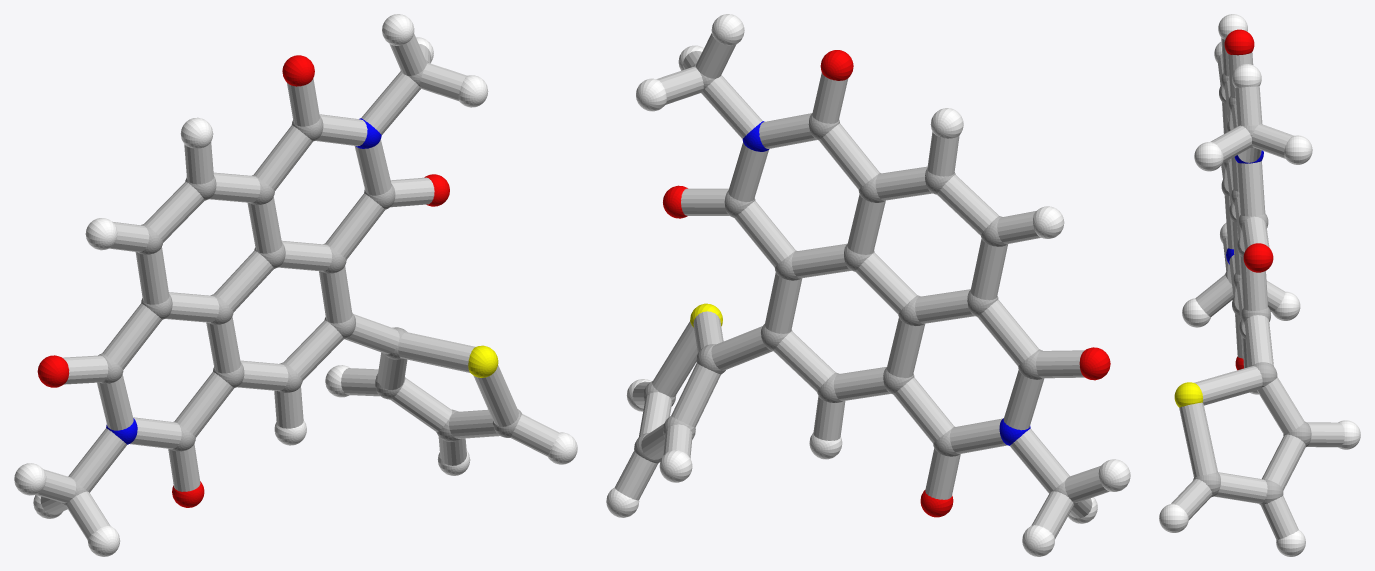
File: Dimethyl_Naphthalene_Dicarboximide_Phi_25_Theta_240_Thiophene.glb
The picture shows the model from 3 angles, left to right: view 1: azimuth 30°, elevation 25°; view 2: azimuth 150°, elevation 25°; view 3: azimuth 270°, elevation 25°; orthographic projection. The views are drawn at different scales.
Visible parts, largest first — view 1: grp14119, grp7241, grp1, grp12309, grp13757, grp11585; view 2: grp14119, grp7241, grp1, grp12309, grp11585; view 3: grp14119, grp7241, grp1, grp12309, grp13757.
Boxes of the visible parts, x1,y1,x2,y2 form: grp14119: (36,33,559,539); grp7241: (14,14,577,556); grp1: (61,60,522,506); grp12309: (37,55,449,507); grp13757: (468,345,498,377); grp11585: (106,118,381,444); grp14119: (615,33,1109,538); grp7241: (606,14,1130,556); grp1: (634,63,1078,506); grp12309: (663,50,1110,517); grp11585: (742,121,1030,445); grp14119: (1171,38,1344,539); grp7241: (1159,14,1360,556); grp1: (1193,73,1311,505); grp12309: (1224,29,1273,370); grp13757: (1174,382,1203,407).
Size of the model in its own units: 11.21 by 10.1 by 4.06.
